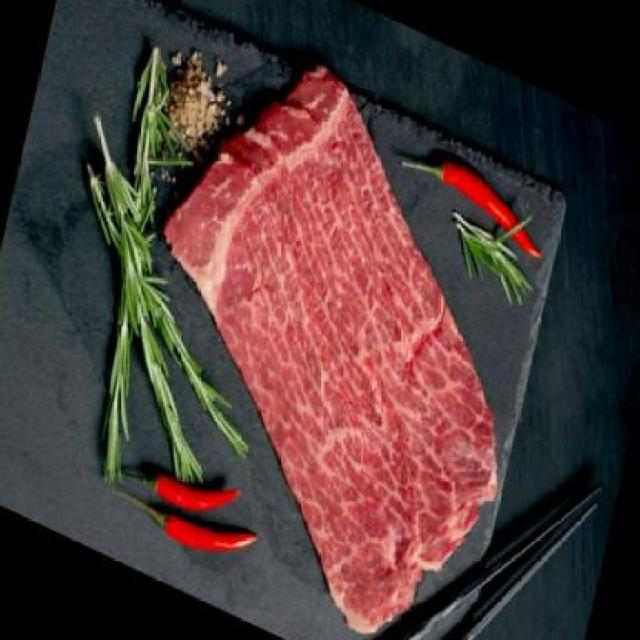beef: (153, 68, 514, 640)
